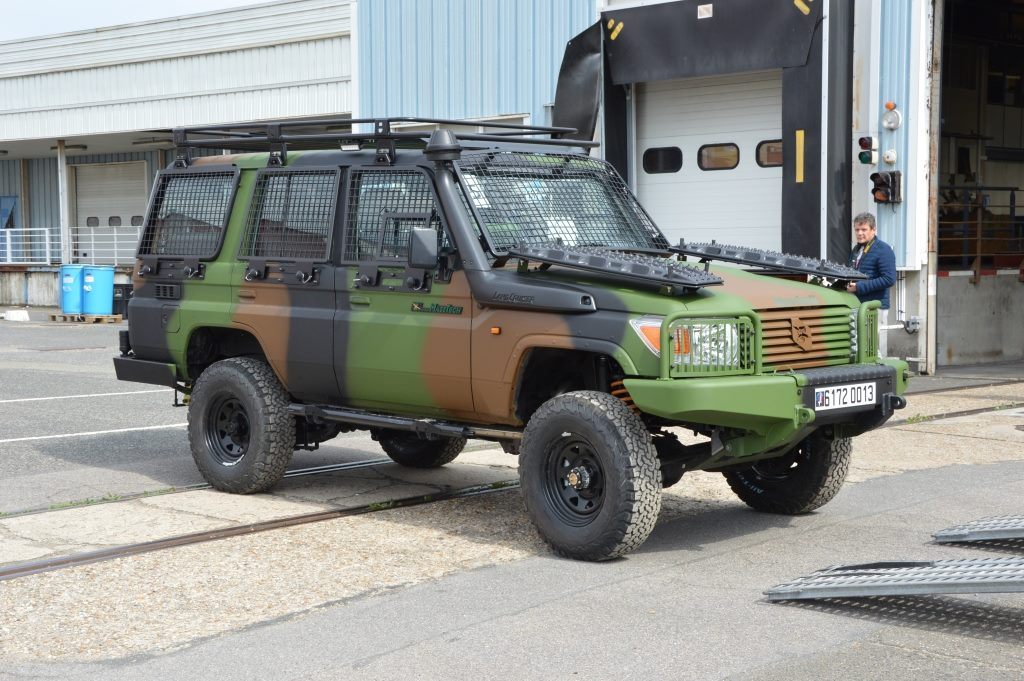license_plate: (812, 379, 881, 411)
